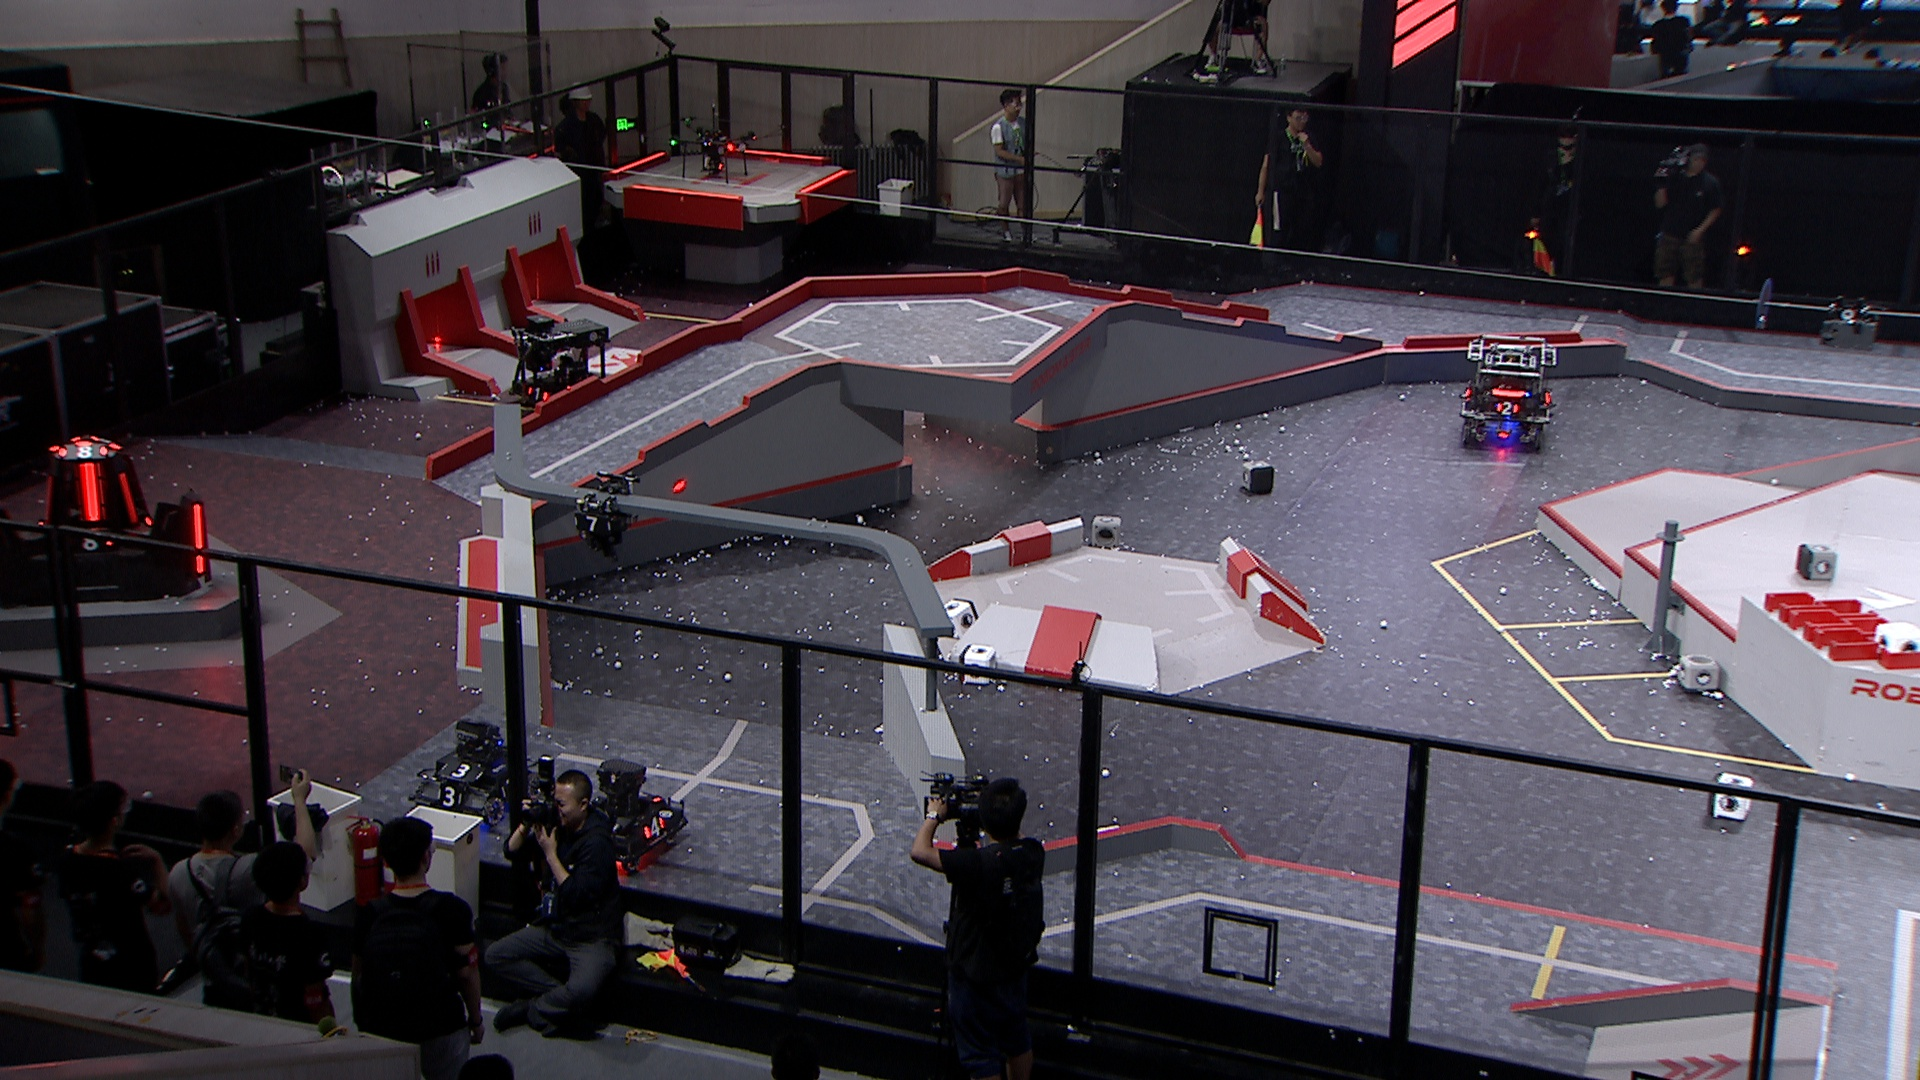armor: (76, 462, 107, 522), (116, 469, 141, 524), (191, 501, 207, 576), (439, 761, 485, 781), (58, 443, 109, 460), (572, 516, 613, 535), (40, 473, 54, 527), (433, 785, 465, 808), (73, 533, 113, 551), (641, 814, 665, 839), (526, 385, 551, 404), (1494, 400, 1519, 415)
car: (564, 757, 694, 874), (410, 713, 541, 829), (1460, 332, 1560, 447), (505, 313, 613, 418)
watcher: (567, 469, 641, 560)
